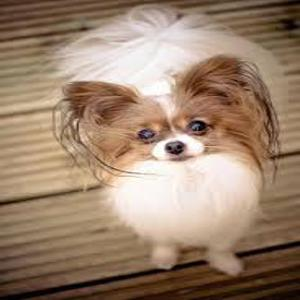yell: (52, 3, 280, 276)
